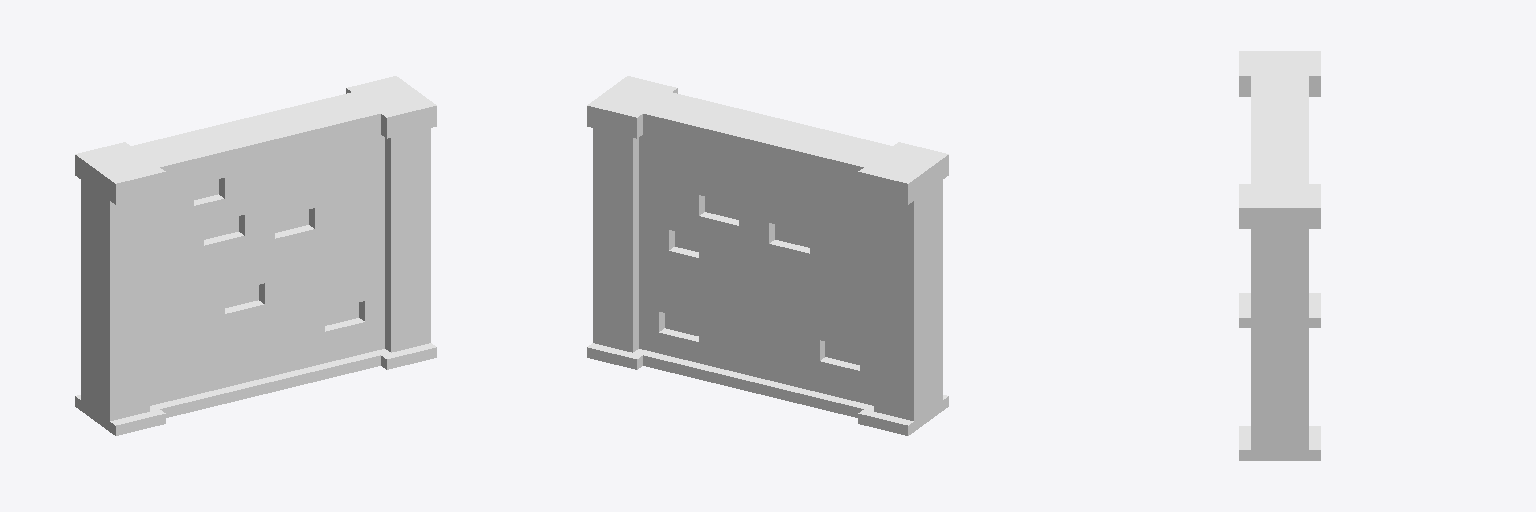
File: wall_brick_1.obj
3 renders of one model, left to right at view 1: azimuth 30°, elevation 25°; view 2: azimuth 150°, elevation 25°; view 3: azimuth 270°, elevation 25°, orthographic.
Visible parts, largest first — view 1: object 1; view 2: object 1; view 3: object 1.
Part boxes in pixels (left/top/right/bottom): object 1: left=75, top=76, right=436, bottom=435; object 1: left=587, top=76, right=948, bottom=435; object 1: left=1239, top=51, right=1320, bottom=460.
Bounding box in the file's own units: 3.2 × 2.4 × 0.7.